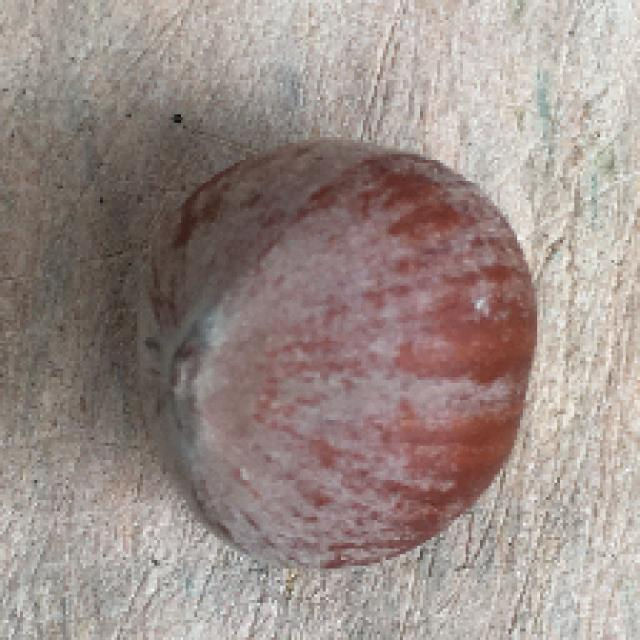qualityHazelnut: (119, 124, 544, 580)
